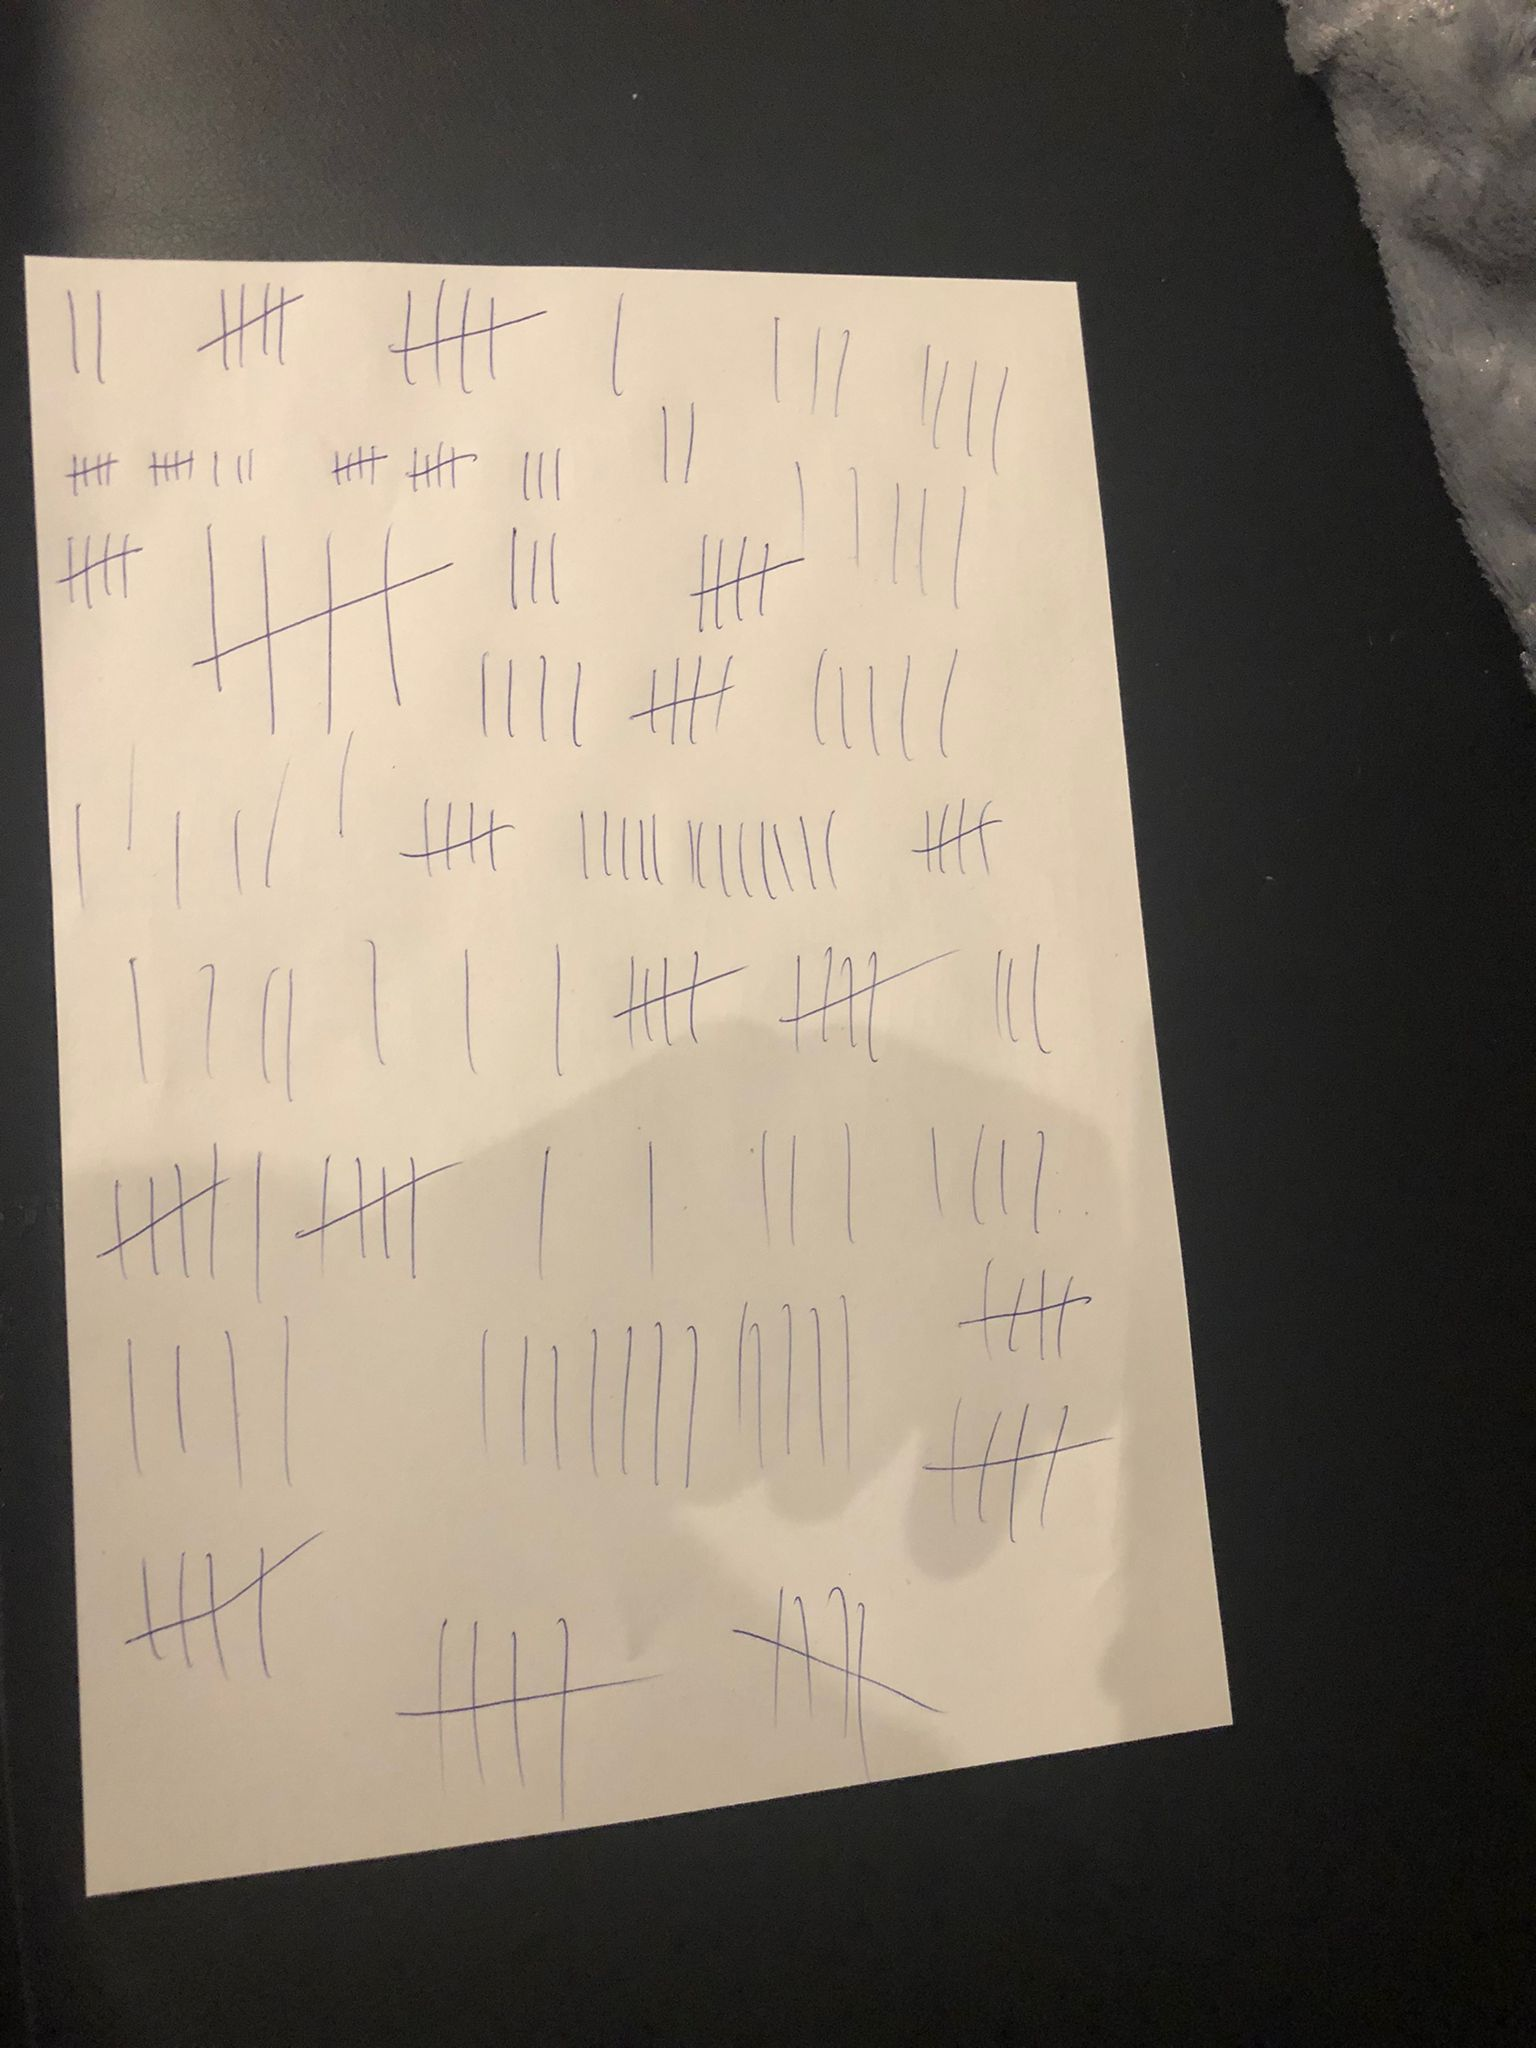Block: (187, 518, 457, 735), (386, 1617, 658, 1830), (729, 1582, 945, 1775), (121, 1524, 326, 1682), (921, 1395, 1113, 1546), (295, 1147, 465, 1285), (779, 939, 962, 1063), (94, 1138, 239, 1285), (386, 276, 549, 395), (955, 1250, 1100, 1364), (611, 947, 750, 1051), (687, 529, 803, 634), (397, 793, 516, 882), (628, 653, 737, 748), (195, 281, 307, 371), (908, 797, 1005, 880), (55, 531, 144, 610), (403, 439, 478, 492), (328, 440, 389, 485), (63, 450, 119, 497), (147, 445, 195, 485)
Single: (219, 1322, 247, 1492), (360, 934, 390, 1071), (453, 942, 484, 1076), (807, 1300, 831, 1464), (274, 1313, 297, 1485), (836, 1287, 857, 1471), (192, 959, 223, 1080), (545, 940, 571, 1077), (123, 1334, 147, 1476), (68, 793, 97, 910), (119, 951, 144, 1085), (274, 748, 297, 889), (247, 1145, 266, 1306), (750, 1121, 774, 1248), (257, 959, 281, 1084), (649, 1316, 666, 1485), (532, 1142, 553, 1282), (778, 1297, 795, 1459), (682, 1321, 699, 1490), (165, 801, 189, 913), (783, 1122, 803, 1250), (547, 1340, 568, 1467), (747, 1322, 765, 1471), (989, 361, 1012, 476), (968, 1114, 991, 1229), (121, 734, 142, 855), (837, 1114, 857, 1245), (620, 1321, 636, 1477), (942, 640, 963, 758), (586, 1326, 602, 1477), (1033, 940, 1054, 1056), (58, 282, 82, 381), (925, 1118, 949, 1216), (950, 484, 970, 606), (169, 1338, 189, 1458), (89, 287, 111, 385), (833, 323, 855, 419), (610, 287, 628, 402), (284, 963, 298, 1101), (644, 1135, 658, 1274), (897, 650, 915, 763), (227, 803, 248, 898), (1031, 1124, 1049, 1235), (886, 476, 904, 585), (340, 727, 357, 842), (768, 310, 787, 405), (566, 655, 586, 750), (478, 1322, 492, 1447), (532, 648, 552, 740), (963, 352, 979, 461), (812, 643, 828, 748), (520, 1334, 532, 1464), (915, 482, 929, 597), (502, 653, 520, 742), (655, 398, 673, 484), (941, 356, 957, 450), (849, 456, 862, 572), (737, 1300, 749, 1430), (824, 800, 841, 890), (681, 398, 697, 487), (545, 527, 563, 608), (865, 658, 879, 756), (808, 319, 823, 414), (836, 660, 850, 753), (505, 522, 520, 611), (1005, 956, 1020, 1043), (768, 821, 784, 898), (524, 534, 542, 603), (479, 647, 492, 739), (729, 822, 744, 900), (992, 947, 1004, 1042), (999, 1132, 1012, 1214), (576, 808, 591, 879), (923, 335, 934, 426), (795, 813, 808, 892), (616, 813, 631, 880), (715, 821, 728, 897), (650, 810, 663, 884), (753, 819, 765, 901), (600, 806, 613, 877), (552, 442, 566, 500), (636, 816, 649, 880), (515, 447, 529, 503), (695, 819, 707, 889), (536, 445, 549, 498), (207, 447, 223, 489), (792, 460, 800, 539), (686, 819, 694, 889), (232, 453, 245, 487), (245, 445, 253, 481), (271, 1393, 274, 1395)
